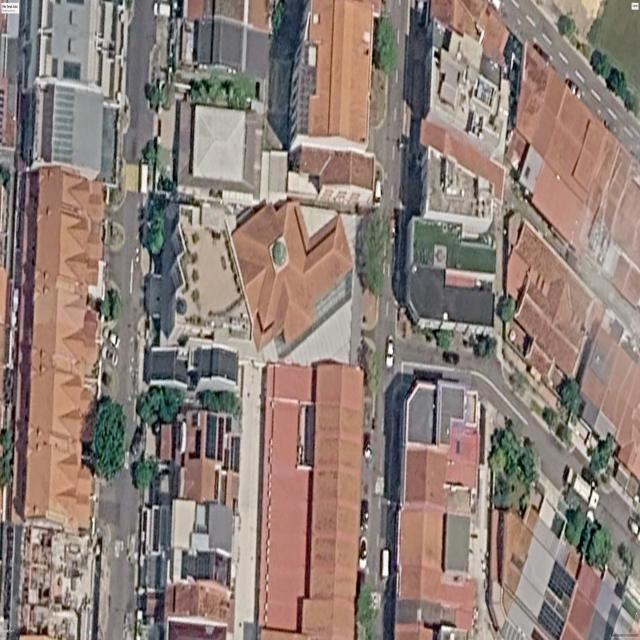Home: (509, 42, 640, 307), (15, 165, 104, 530), (303, 365, 363, 640), (507, 220, 595, 386), (289, 0, 380, 150), (20, 0, 120, 97), (172, 102, 262, 204), (420, 119, 505, 226), (398, 509, 475, 624), (31, 80, 105, 179), (160, 407, 231, 504), (406, 265, 494, 327), (404, 379, 479, 446), (411, 218, 496, 275), (195, 16, 269, 79), (165, 580, 231, 623), (403, 447, 446, 508), (446, 423, 479, 489), (207, 502, 233, 557), (171, 499, 196, 549), (186, 0, 245, 21), (181, 551, 217, 580), (246, 0, 268, 31)
mosque: (232, 200, 354, 350)
